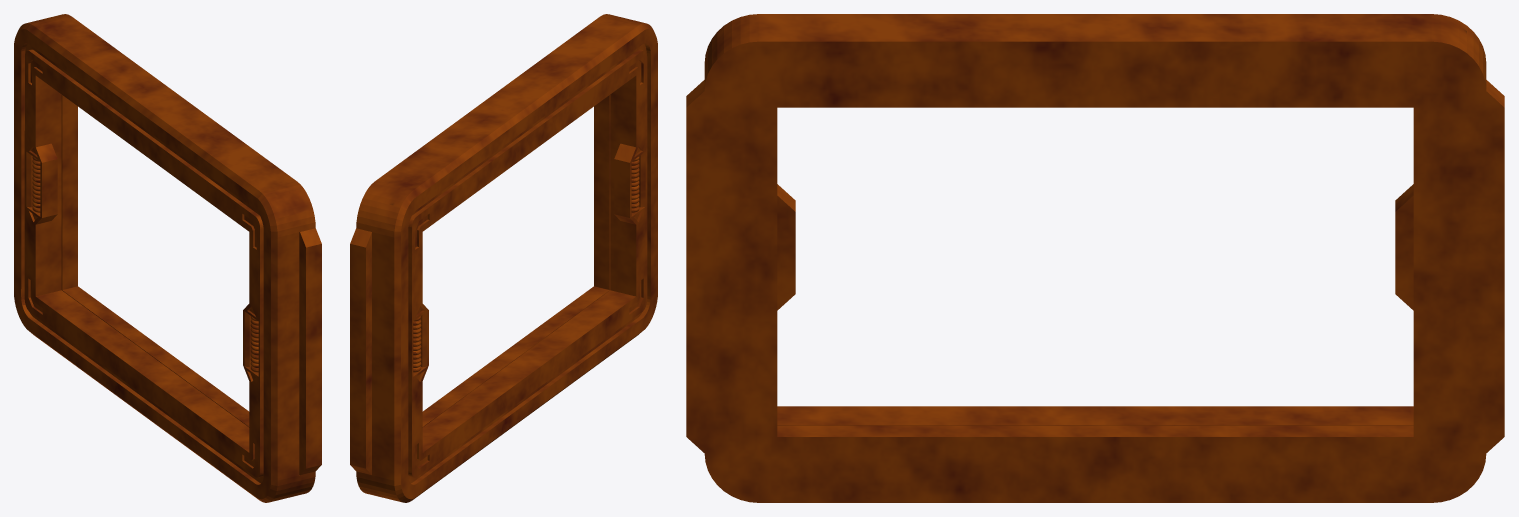
The model's file is Final_Metalsheet screen.glb.
3 views of the same model, side by side, from view 1: azimuth 30°, elevation 25°; view 2: azimuth 150°, elevation 25°; view 3: azimuth 270°, elevation 25° (orthographic). The views are drawn at different scales.
Visible parts, largest first — view 1: Metalsheet holder; view 2: Metalsheet holder; view 3: Metalsheet holder.
Boxes of the visible parts, left/top/right/bottom form: Metalsheet holder: left=14, top=14, right=321, bottom=502; Metalsheet holder: left=350, top=14, right=657, bottom=502; Metalsheet holder: left=686, top=14, right=1504, bottom=502.
Size of the model in its own units: 3.3 by 23.09 by 37.1.
Materials: 1 (1 with a texture image).
